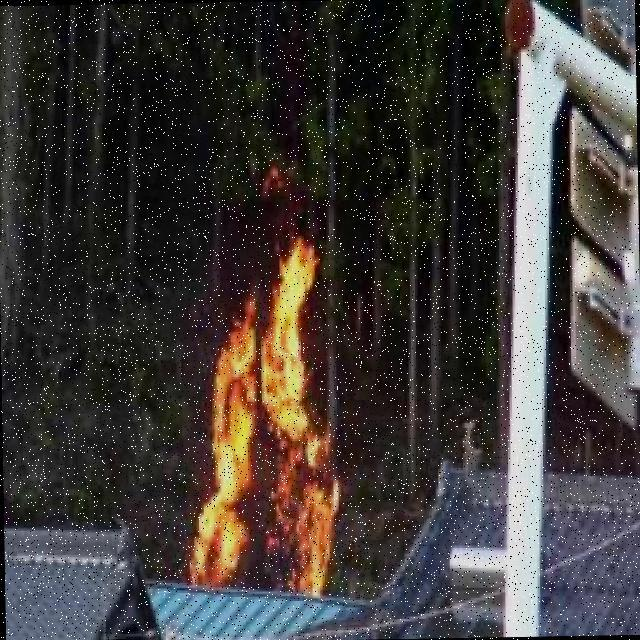Fire: (184, 254, 344, 588)
